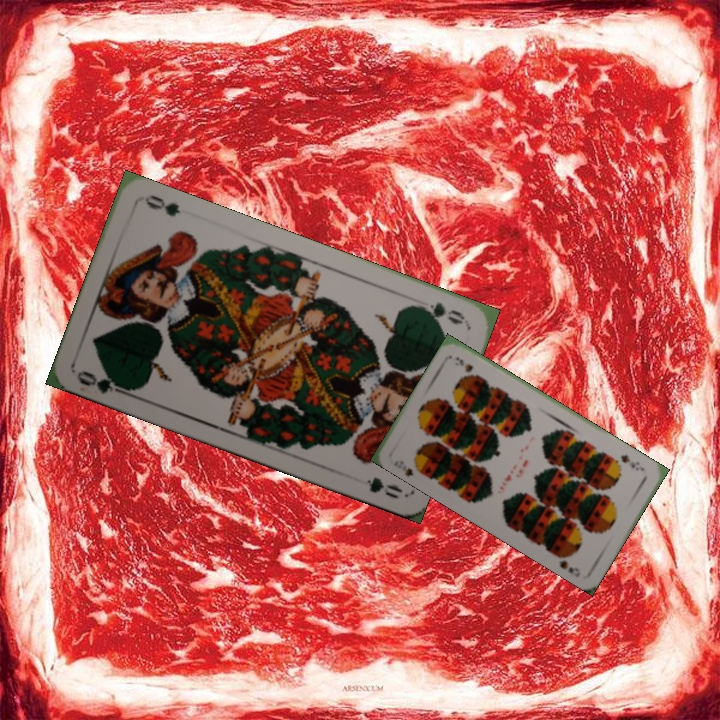GO: (74, 366, 133, 399), (410, 298, 468, 327)
S9: (616, 450, 647, 474), (398, 459, 426, 479)
